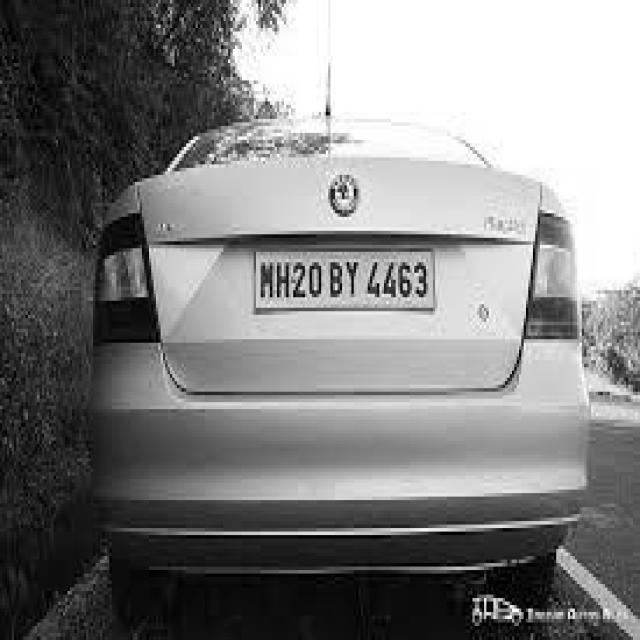license-plate: (252, 256, 436, 318)
